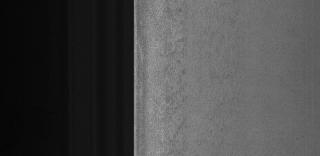silk spot: (159, 10, 191, 138)
